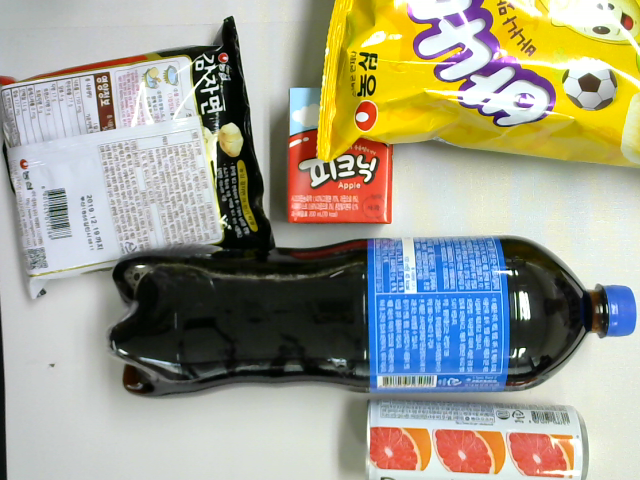Banana_Kick: (314, 1, 638, 164)
Demisoda_Grapefruit_Can_250ml: (364, 400, 589, 480)
Pepsi_Cola_1.5L: (107, 235, 638, 397)
Picnic_Apple: (285, 86, 396, 227)
Potato: (1, 14, 278, 304)
